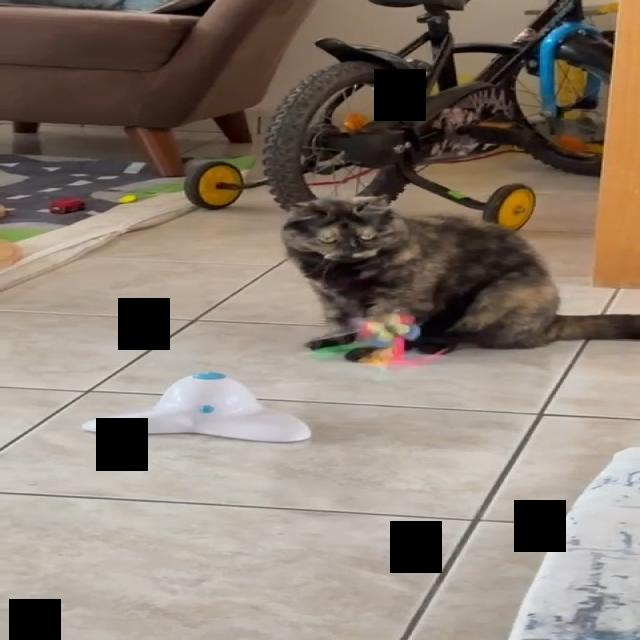authorized: (280, 193, 639, 356)
